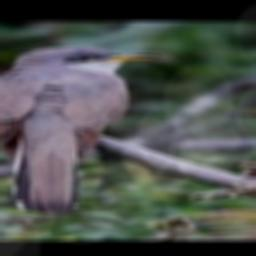Cuckoo: (0, 45, 162, 213)
